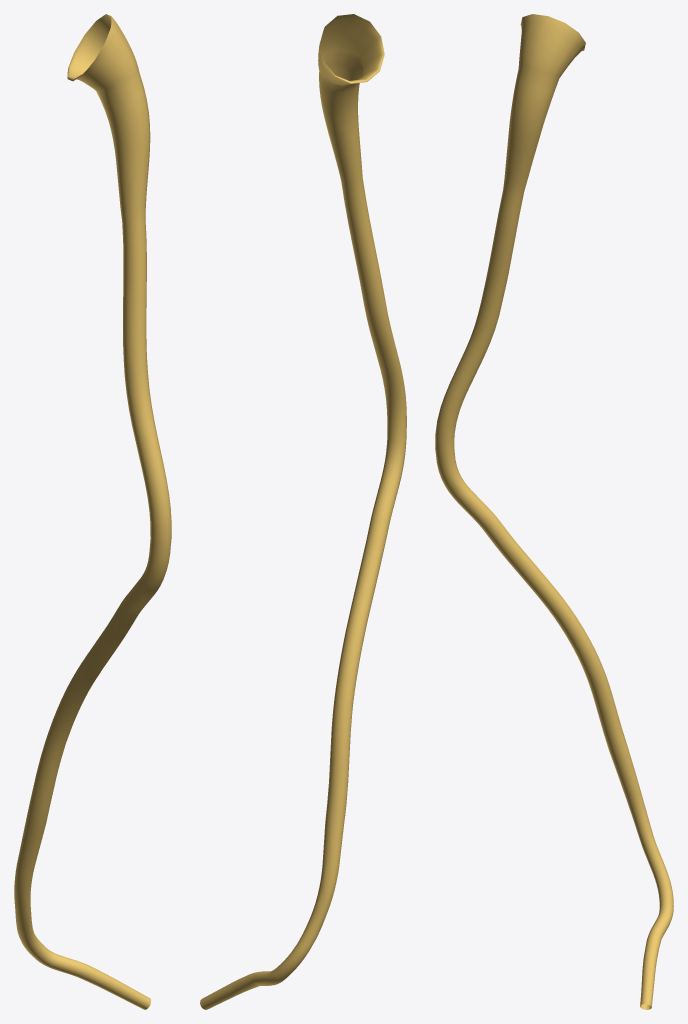
Rendered from visceras-ureter-r.glb.
3 renders of one model, left to right at view 1: azimuth 30°, elevation 25°; view 2: azimuth 150°, elevation 25°; view 3: azimuth 270°, elevation 25°, orthographic. The views are drawn at different scales.
Visible parts, largest first — view 1: Ureter.r; view 2: Ureter.r; view 3: Ureter.r.
Boxes of the visible parts, left/top/right/bottom form: Ureter.r: left=14, top=14, right=171, bottom=1009; Ureter.r: left=200, top=14, right=406, bottom=1009; Ureter.r: left=435, top=14, right=673, bottom=1009.
Size of the model in its own units: 0.0309 by 0.2223 by 0.0503.
